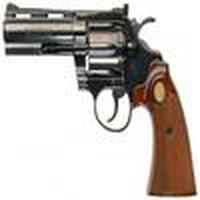gun: (2, 2, 200, 194)
